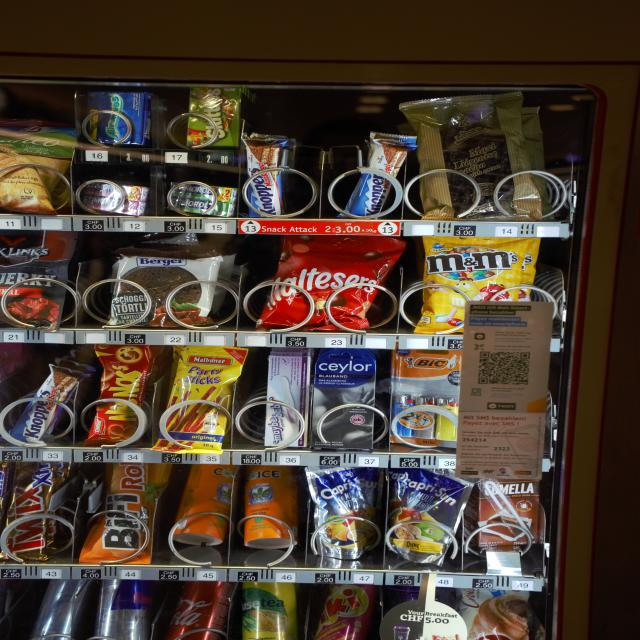airwaves_menthoneucalyptus_riegel_14_1_50173167: (89, 87, 146, 144)
berger____: (105, 238, 222, 328)
bifi_roll__50__4251097402635: (82, 458, 166, 566)
c-swiss_dosenabisicetea__33__9120025930135: (242, 462, 308, 558), (173, 459, 235, 551)
caprisun_multivitamin__20__4000177605004: (389, 463, 475, 572), (300, 468, 384, 566)
coke__dose_33__54491472: (168, 582, 226, 637)
comella_schokodrink__33__7613100037253: (476, 474, 546, 564)
fuse_lemon_dose_33__5449000235947: (242, 580, 296, 640)
jlbrichard_gauffrechoko__90__5410495002079: (418, 99, 536, 214)
knoppers_riegel____4035800488808: (231, 128, 301, 225), (11, 359, 85, 447), (344, 129, 408, 220)
lorenz_nicnacs__40__4018077798818: (88, 338, 155, 450)
malburner_partysticks__40__7610200279682: (153, 344, 251, 450)
maltesers___100__5000159023061: (258, 228, 389, 328)
mnms_gelb__45__40111445: (415, 235, 540, 337)
redbull___33__90162909: (97, 576, 153, 639)
skittles_sour_riegel_51_1_: (190, 86, 238, 148)
stimorol_spearmint_riegel_14_1_: (168, 177, 230, 218)
stimorol_wildcherry_riegel_14_1_57060330: (84, 180, 146, 218)
tiki_himbeerbrause_dose_33_1_: (315, 584, 377, 640)
twix___50__5000159459228: (8, 458, 68, 563)
zweifel_graneochilli__100__7610095184009: (0, 128, 65, 211)
